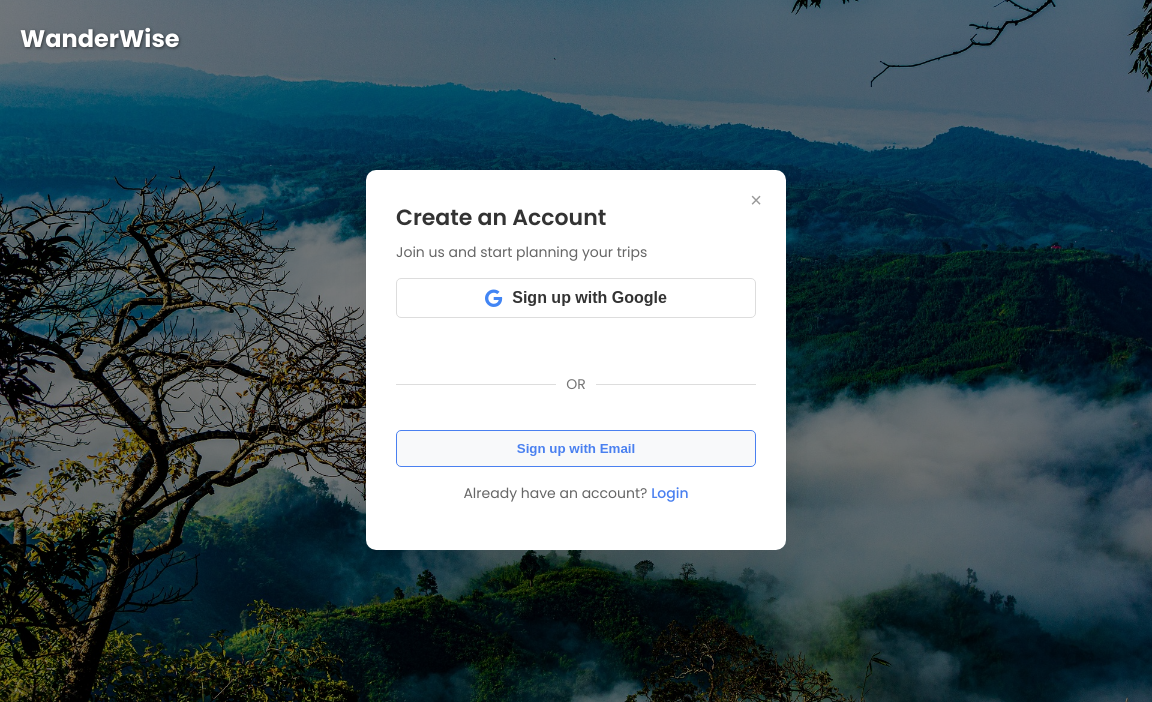
Test case: Authentication Integration Tests › Signup Flow Integration › signup with invalid password length shows validation error
Click the button "Sign up with Email" at (576, 449), box [396, 430, 756, 467]
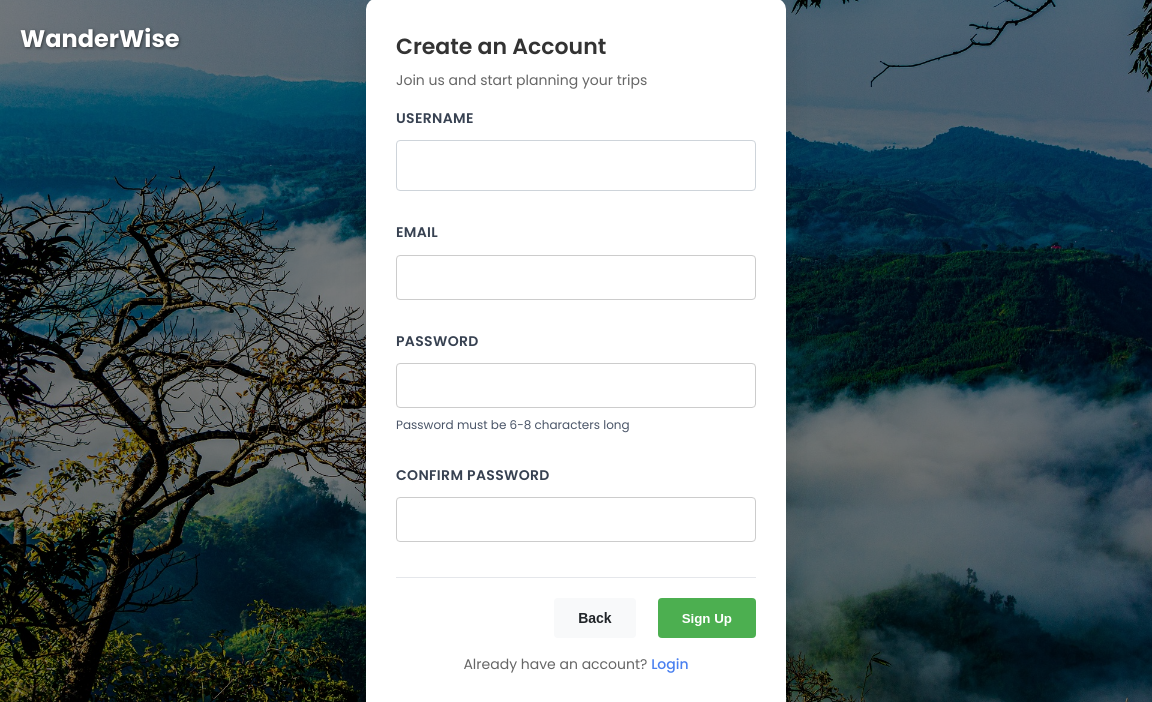
Type "testuser" into the field labelled "Username" at (576, 166), box [396, 140, 756, 191]
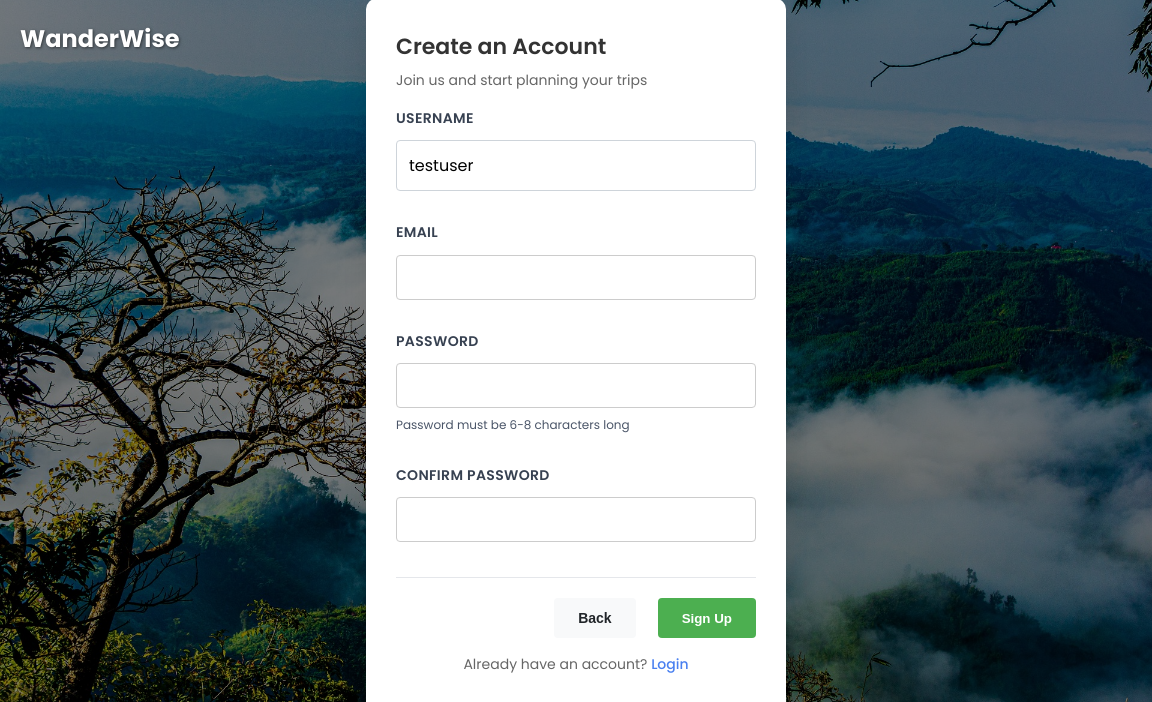
Type "test@example.com" into the field labelled "Email" at (576, 277), box [396, 254, 756, 300]
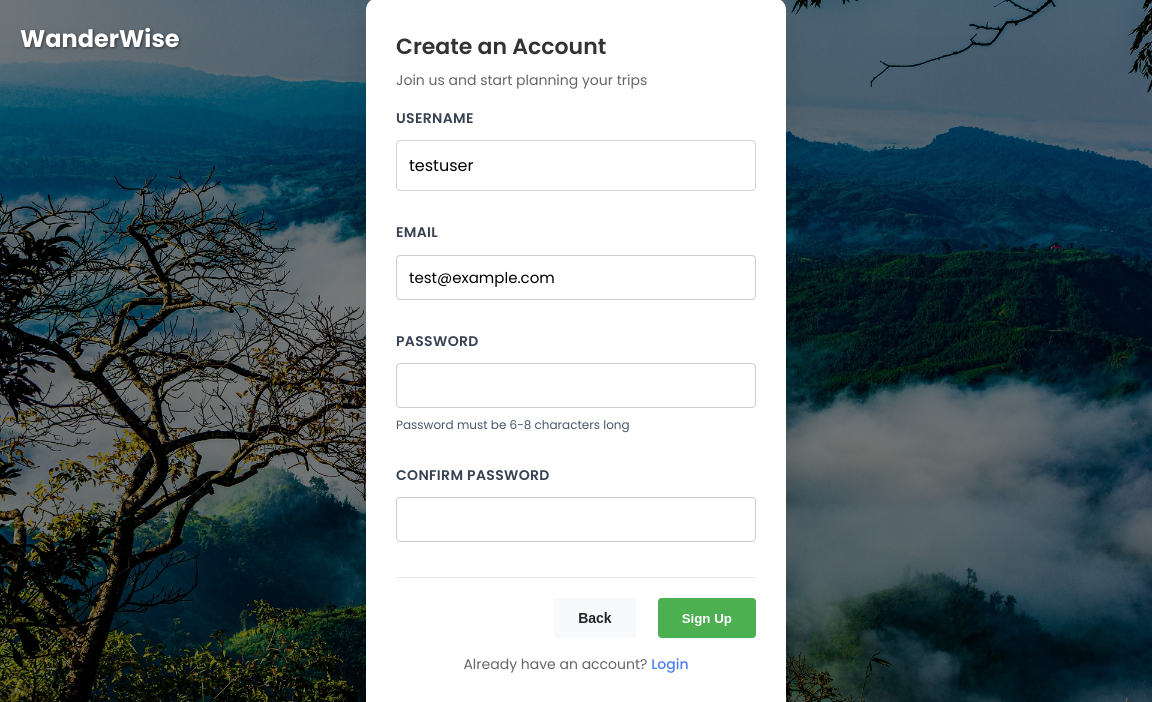
Type "12345" into the password field labelled "Password" at (576, 385), box [396, 363, 756, 408]
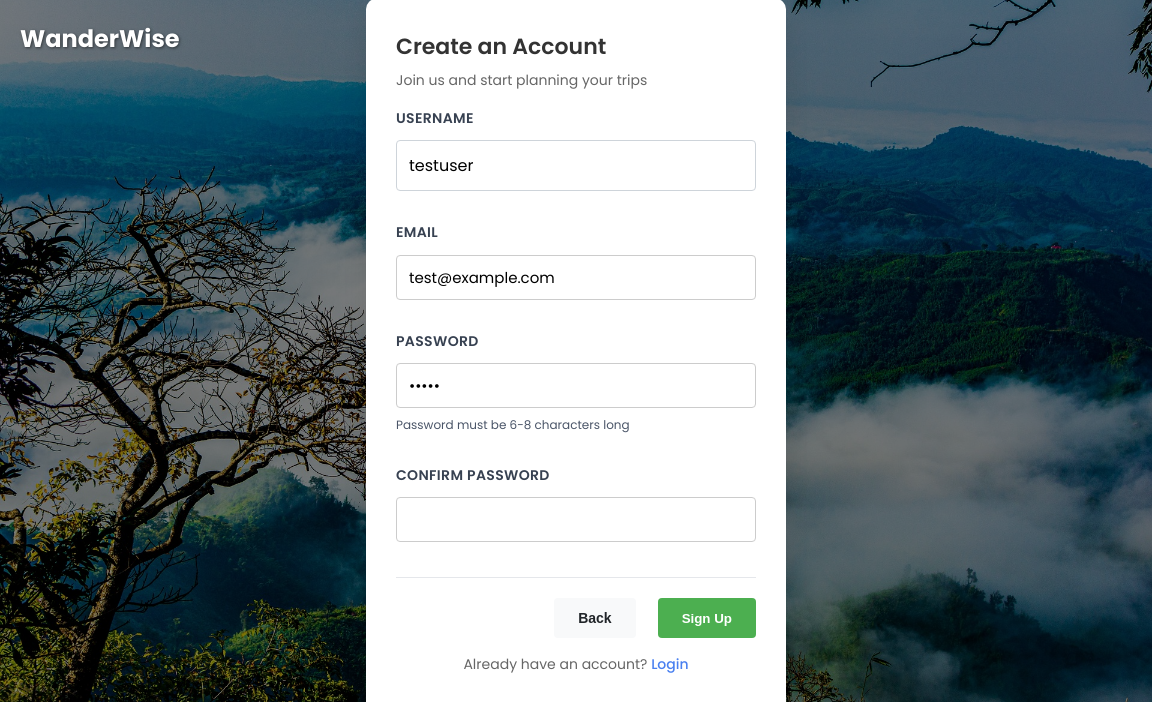
Type "12345" into the password field labelled "Confirm Password" at (576, 520), box [396, 498, 756, 542]
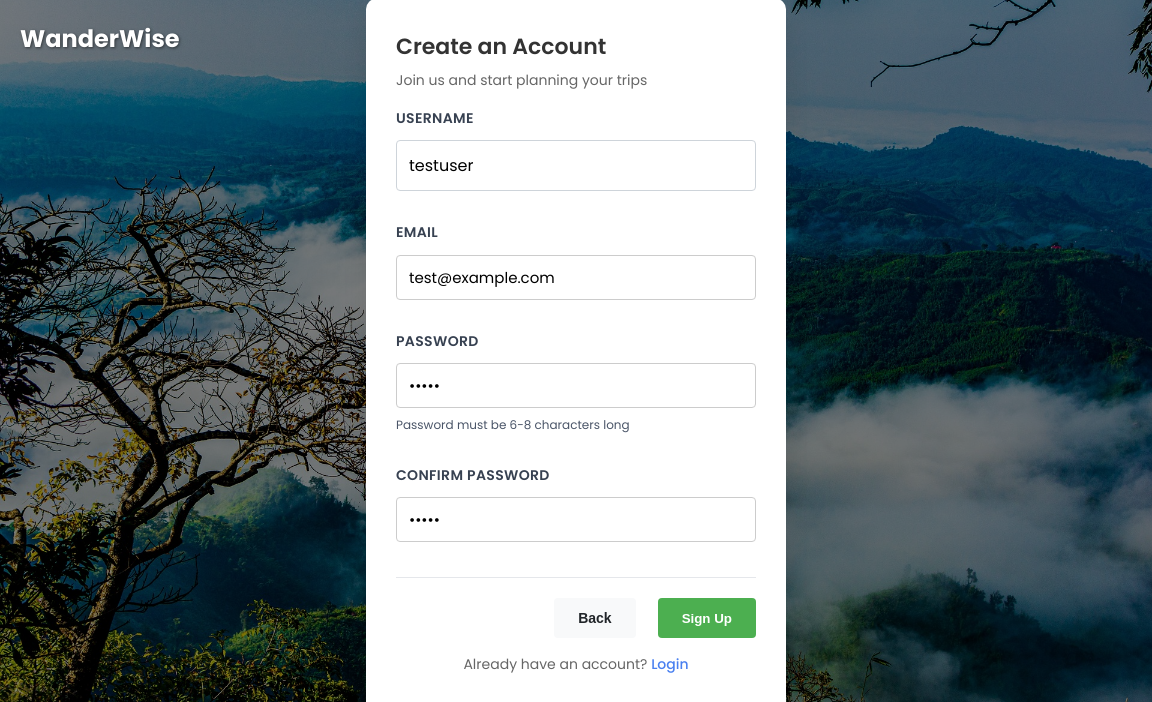
Click the button "Sign Up" at (707, 618), box [658, 598, 756, 638]
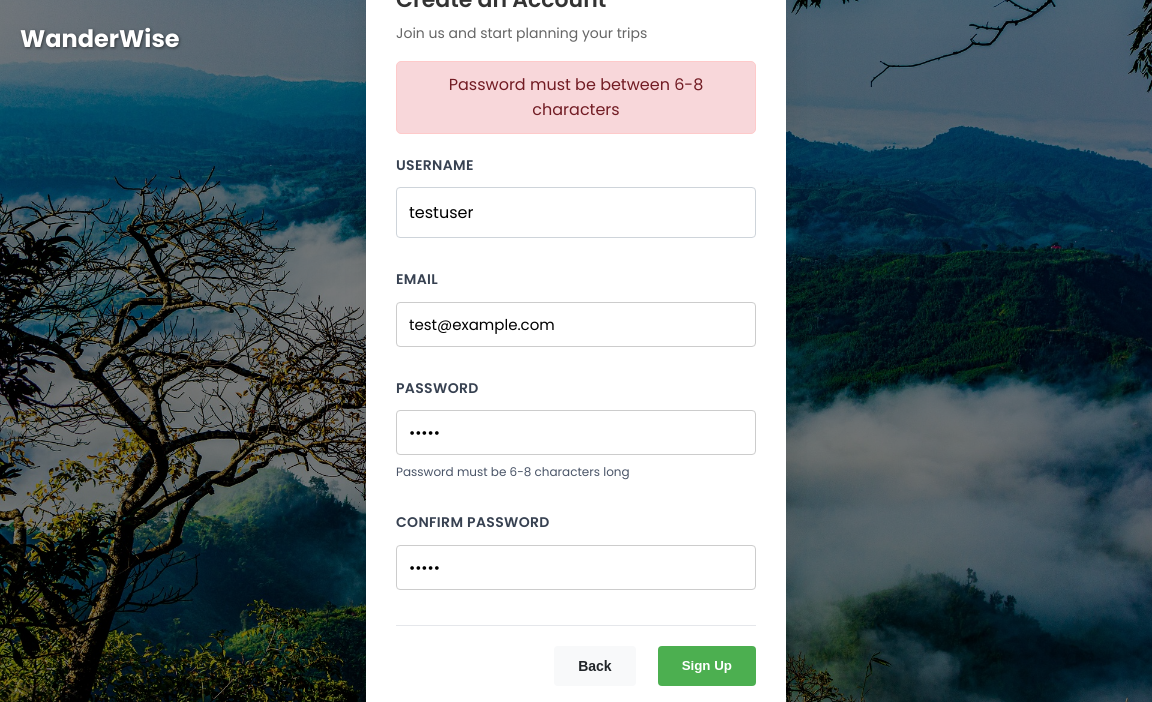
Expected: the text "Password must be between 6-8 characters" is shown, [396, 61, 756, 134]
